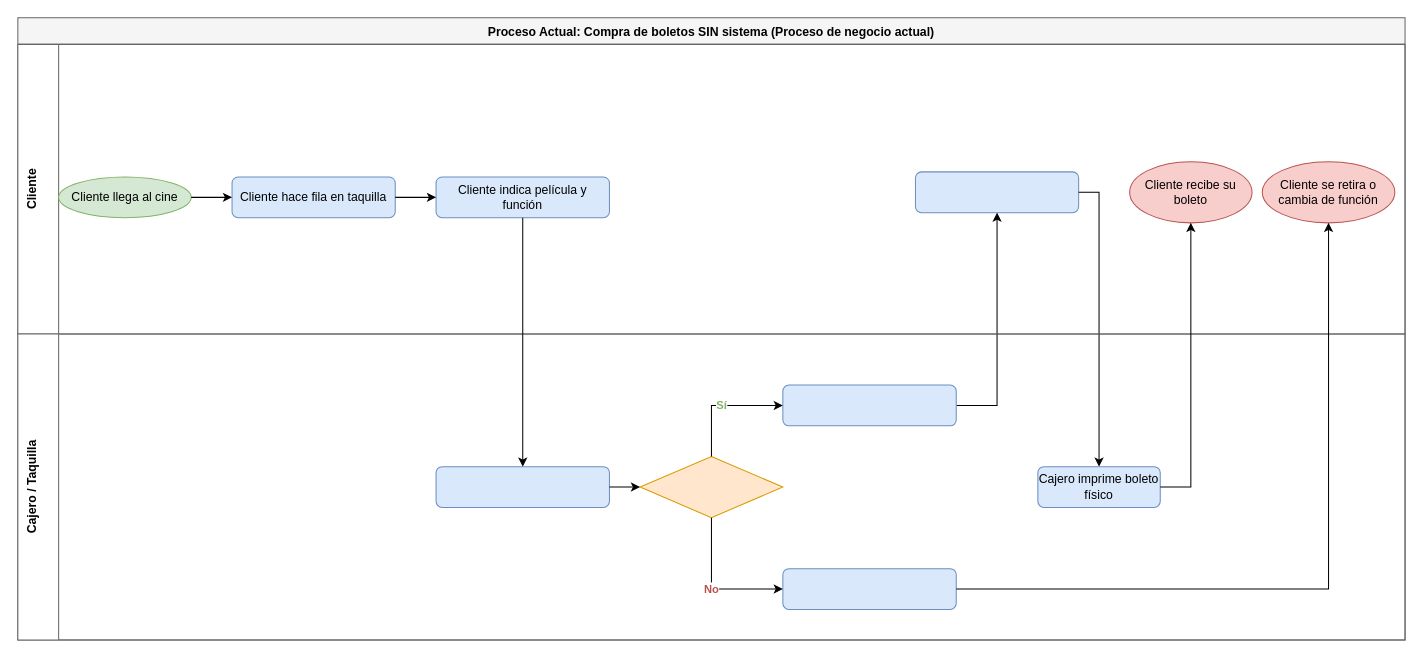
This 1423x658 diagram has some shape labels left out. The centre of each missing label's shape, as x and y in pixels:
"Cajero indica el precio al cliente" goes at (x=869, y=405).
"Cajero informa que no hay cupo" goes at (x=869, y=588).
"Cajero verifica disponibilidad y precio" goes at (x=522, y=486).
"Cliente paga en efectivo" goes at (x=996, y=192).
"¿Hay disponibilidad?" goes at (x=711, y=486).
